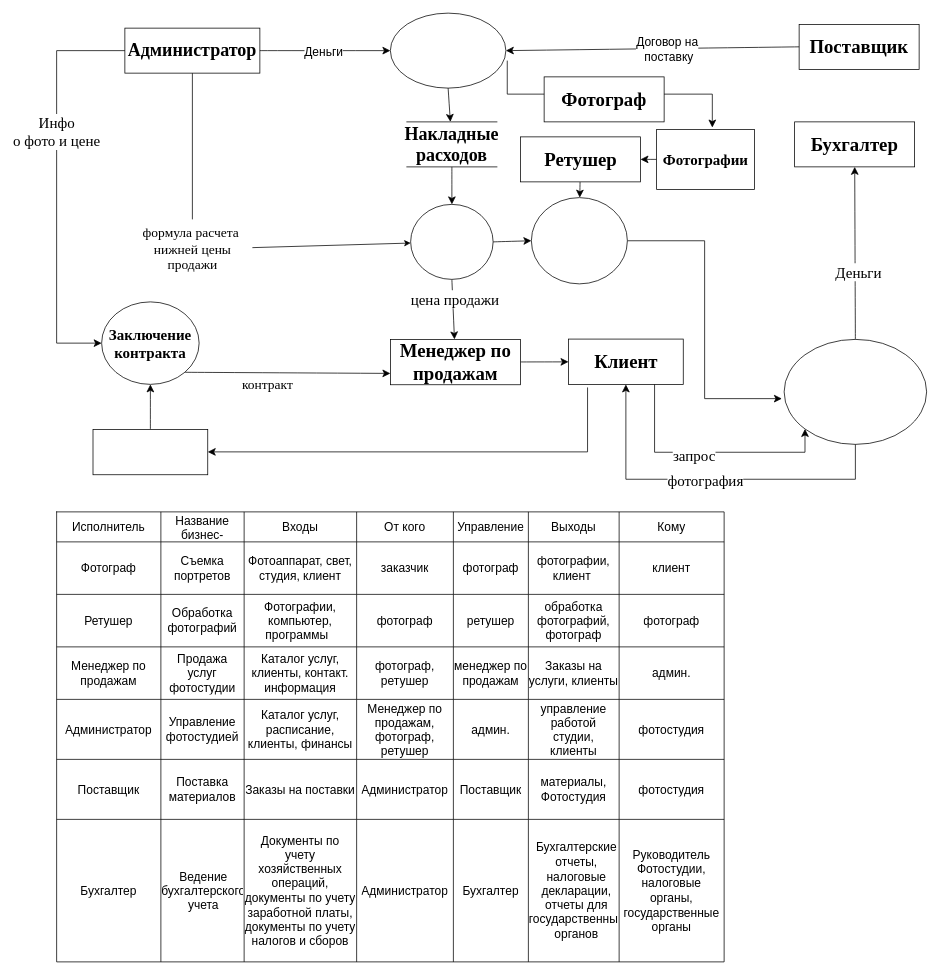
The diagram is 940 pixels wide and 975 high, and some of its shapes have lost their labels. Here are the shapes that lost their labels. From the top down, the centre of each, then its label:
point (448, 50): Закупка материалов
point (451, 241): Оценка продукта
point (579, 240): Обработка фотографии
point (855, 391): Обслуживание
point (150, 452): Данные клиента
